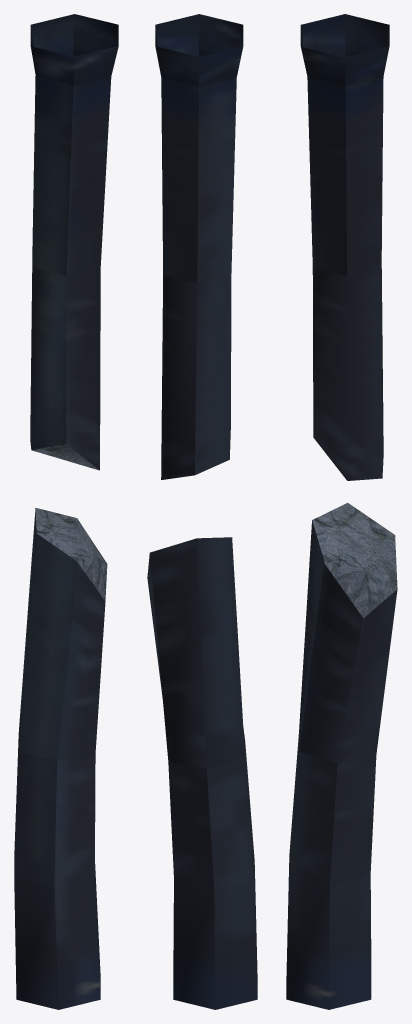
The model's file is HuBian_NightRailing08_FBX.FBX.
The picture shows the model from 3 angles, left to right: view 1: azimuth 30°, elevation 25°; view 2: azimuth 150°, elevation 25°; view 3: azimuth 330°, elevation 25°; orthographic projection.
Visible parts, largest first — view 1: HuBian_NightRailing08_FBX; view 2: HuBian_NightRailing08_FBX; view 3: HuBian_NightRailing08_FBX.
Boxes of the visible parts, x1,y1,x2,y2 form: HuBian_NightRailing08_FBX: (14,14,118,1009); HuBian_NightRailing08_FBX: (147,14,257,1009); HuBian_NightRailing08_FBX: (286,14,397,1009).
Bounding box in the file's own units: 0.1021 × 0.9058 × 0.0803.
